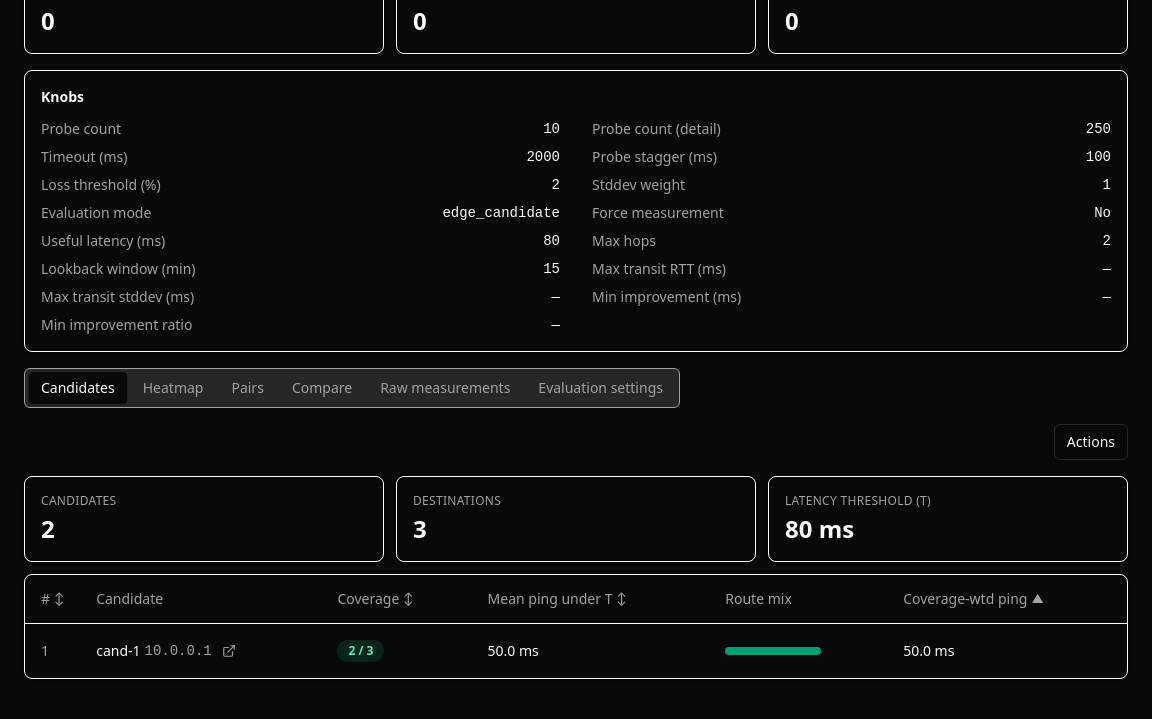
Test case: CampaignDetail edge_candidate — Candidates tab + DrilldownDialog › clicking a candidate row in EdgeCandidateTable opens the DrilldownDialog
(page scrolled)
Click the row with test id "edge-candidate-row-10.0.0.1" at [118, 650], box [25,623,1127,678]
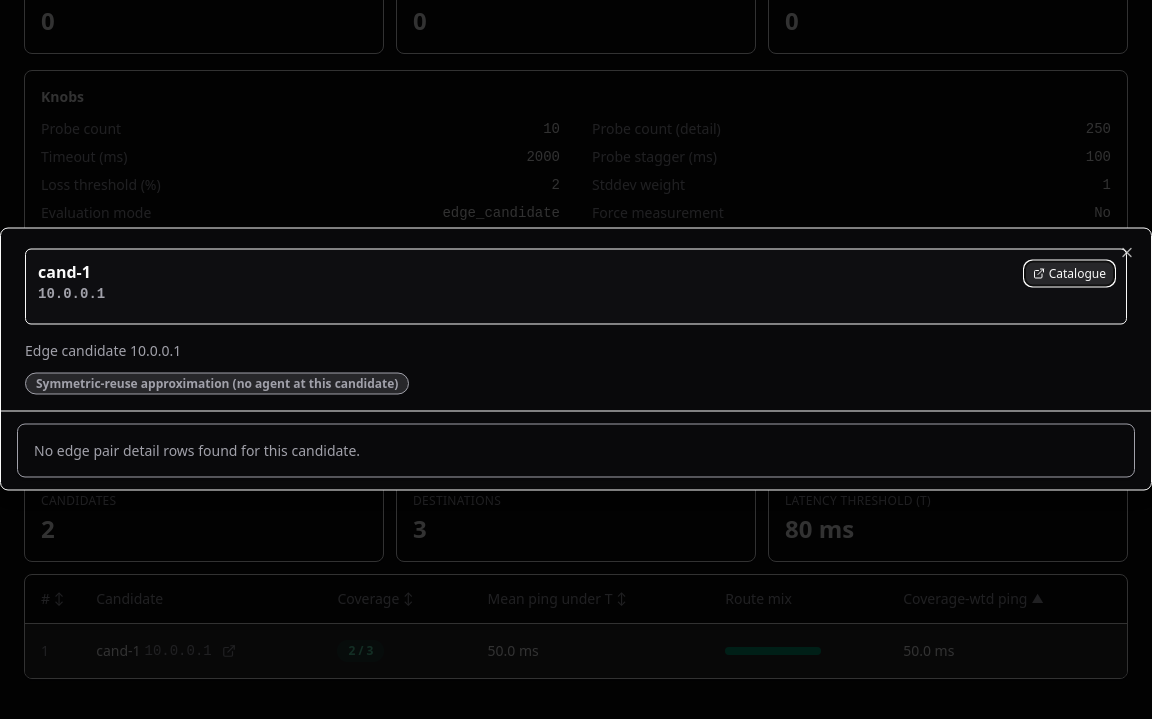
Now the dialog is shown, box [0,228,1151,490]
